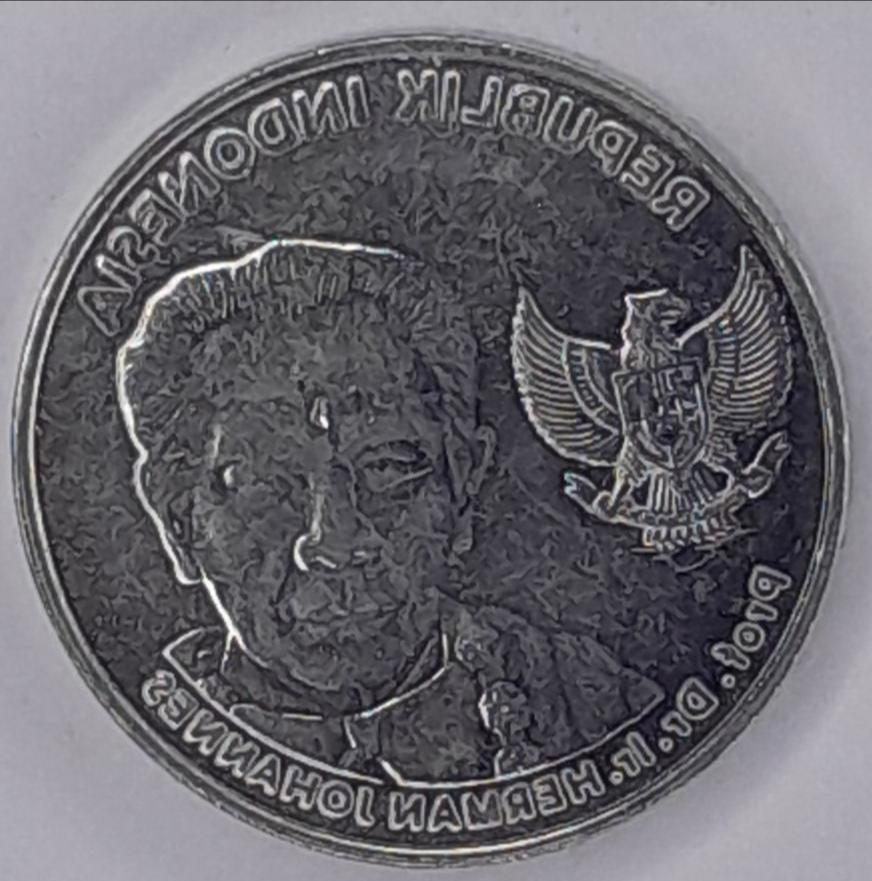coin_100_e2016: (6, 26, 854, 869)
